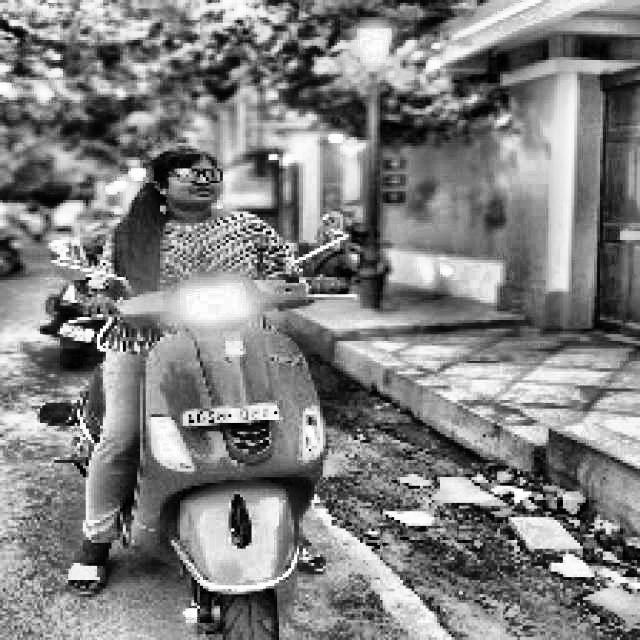motorcycle: (40, 194, 408, 640)
